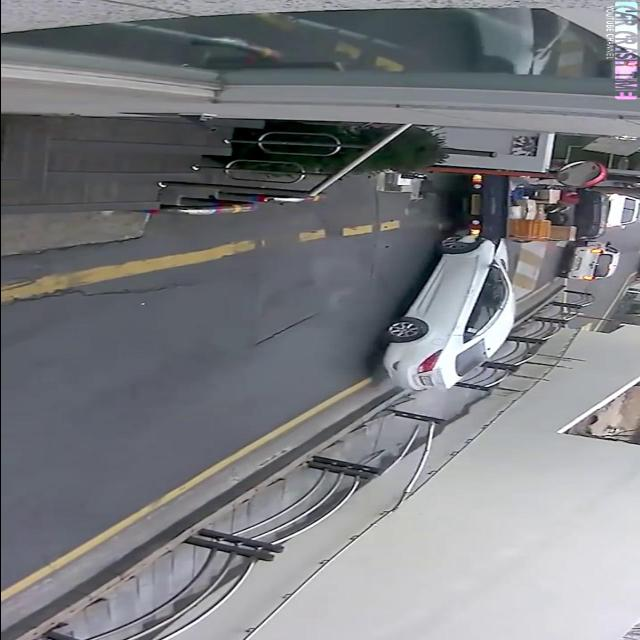accident: (366, 170, 610, 394)
